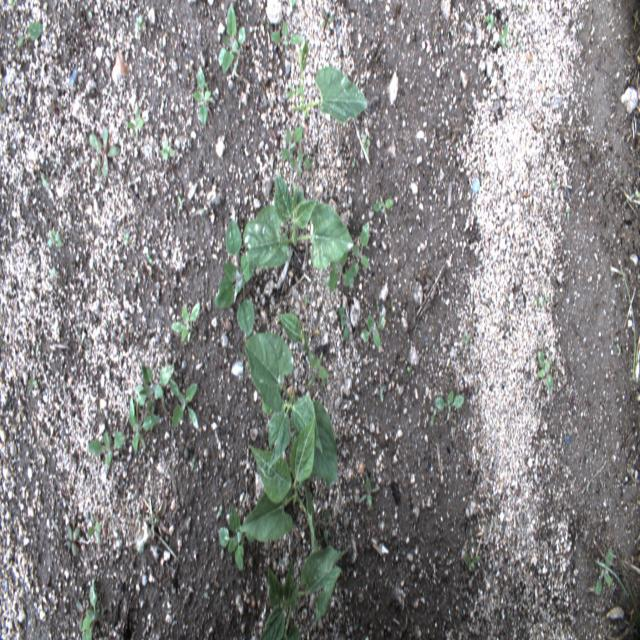crop: (245, 334, 338, 488), (242, 166, 353, 268), (241, 416, 317, 551), (261, 546, 349, 638), (286, 38, 368, 122), (214, 219, 254, 337), (279, 313, 308, 352)
weed: (597, 538, 639, 634), (218, 506, 256, 570), (619, 262, 639, 381), (218, 2, 246, 79), (129, 386, 160, 452), (88, 126, 121, 177), (141, 363, 175, 411), (169, 379, 200, 430), (88, 431, 126, 467), (79, 578, 101, 639), (192, 62, 211, 128), (172, 301, 201, 344), (432, 388, 465, 424), (350, 220, 370, 278), (329, 256, 353, 293), (270, 19, 302, 46), (306, 351, 330, 387), (361, 315, 385, 349), (594, 548, 612, 593), (282, 124, 303, 162), (359, 474, 380, 510), (536, 349, 554, 391), (125, 106, 144, 145), (18, 22, 43, 48), (86, 510, 101, 544), (291, 149, 311, 174), (67, 523, 81, 557), (337, 304, 349, 341), (464, 550, 482, 574), (496, 22, 511, 50), (75, 599, 88, 631), (371, 198, 395, 213), (48, 228, 63, 248), (160, 141, 175, 160), (322, 9, 334, 30), (362, 134, 371, 156), (93, 155, 102, 177), (0, 90, 7, 118), (28, 378, 38, 396), (406, 363, 415, 379), (485, 13, 493, 31), (430, 408, 437, 428), (122, 232, 132, 246), (136, 13, 143, 32), (41, 172, 48, 188), (461, 333, 472, 343), (550, 178, 557, 192), (10, 0, 18, 9), (217, 504, 222, 517), (566, 206, 570, 220), (616, 343, 621, 354)
